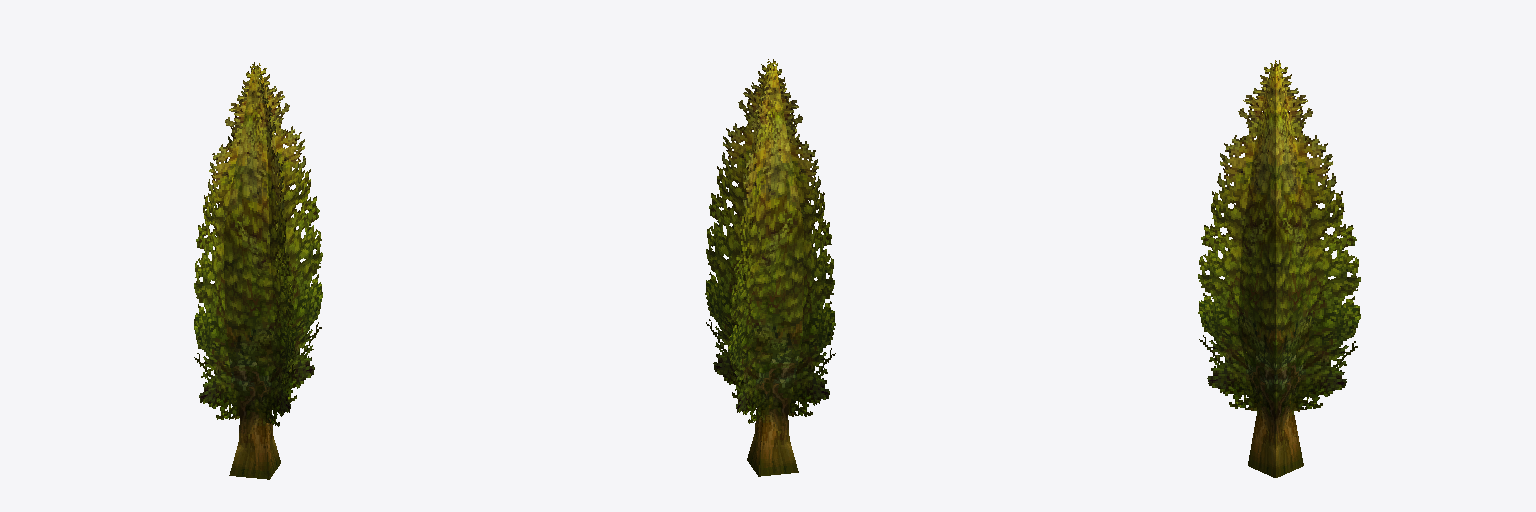
The picture shows the model from 3 angles: view 1: azimuth 30°, elevation 25°; view 2: azimuth 150°, elevation 25°; view 3: azimuth 270°, elevation 25°; orthographic projection.
Visible parts, largest first — view 1: object 1; view 2: object 1; view 3: object 1.
Boxes of the visible parts, x1,y1,x2,y2 form: object 1: [194, 62, 322, 479]; object 1: [705, 59, 835, 476]; object 1: [1198, 60, 1360, 477].
Bounding box in the file's own units: 3.16 × 9.51 × 3.44.
Materials: 1 (1 with a texture image).